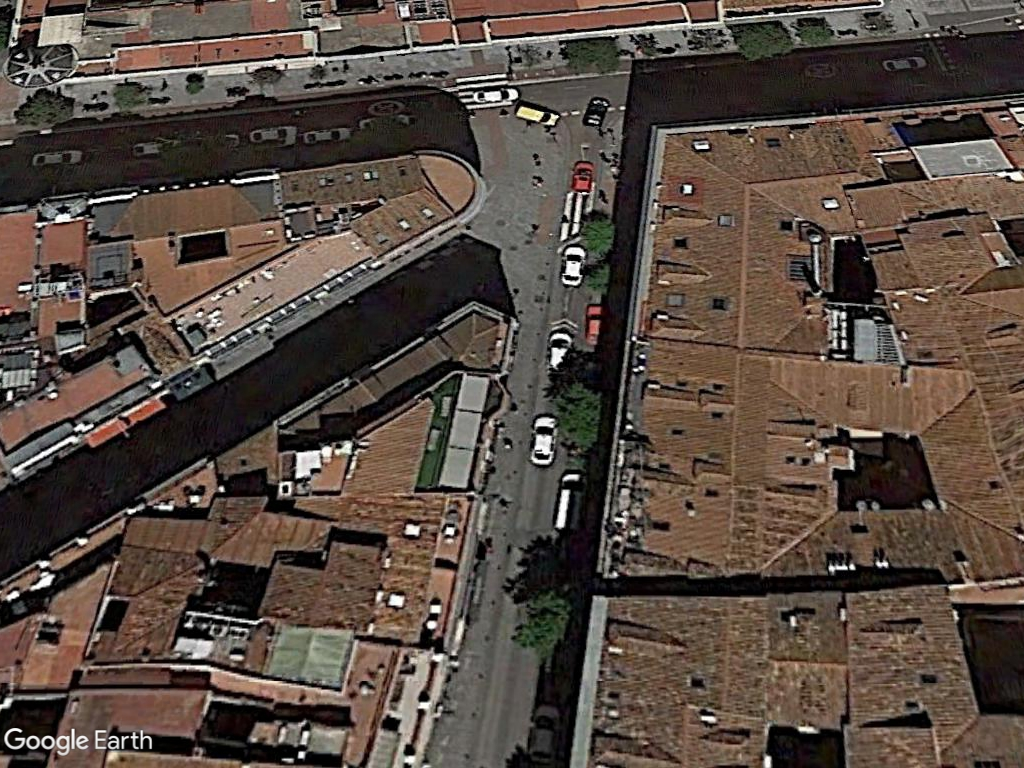car: (529, 410, 561, 468), (561, 243, 586, 287), (471, 87, 523, 106)
